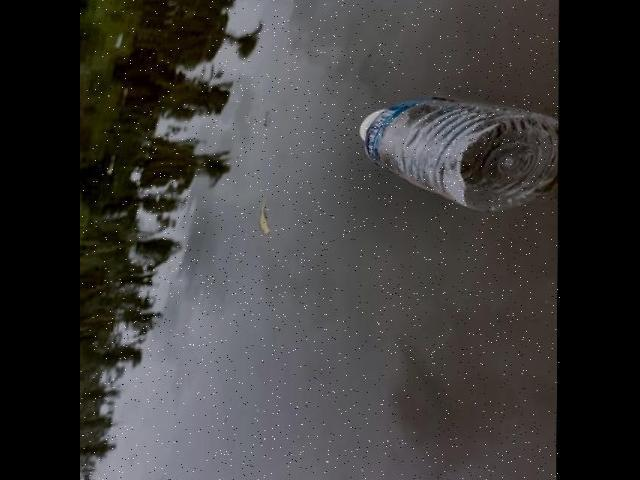Bottle: (350, 84, 560, 222)
